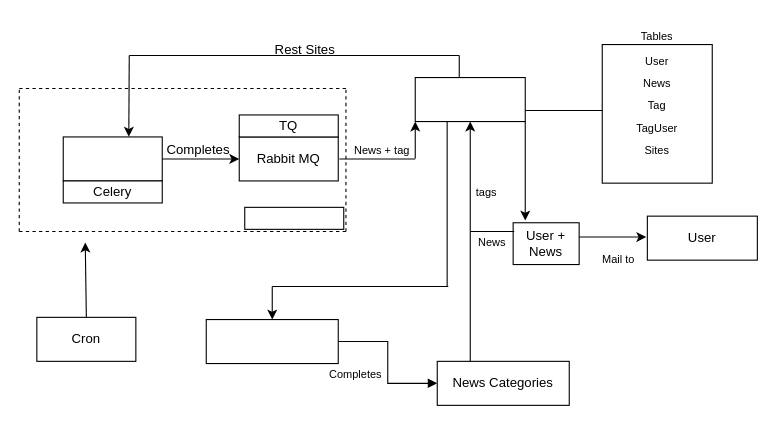
Some shapes in this 777 by 425 pixel diagram are drawn without their labels. The box of each missing label's shape, as (x1, y1, x2, y2) in pixels:
Consumer: (205, 318, 338, 364)
Database (PostgreSQL): (414, 76, 525, 122)
MQ: (244, 206, 344, 229)
Task: (62, 136, 162, 181)
